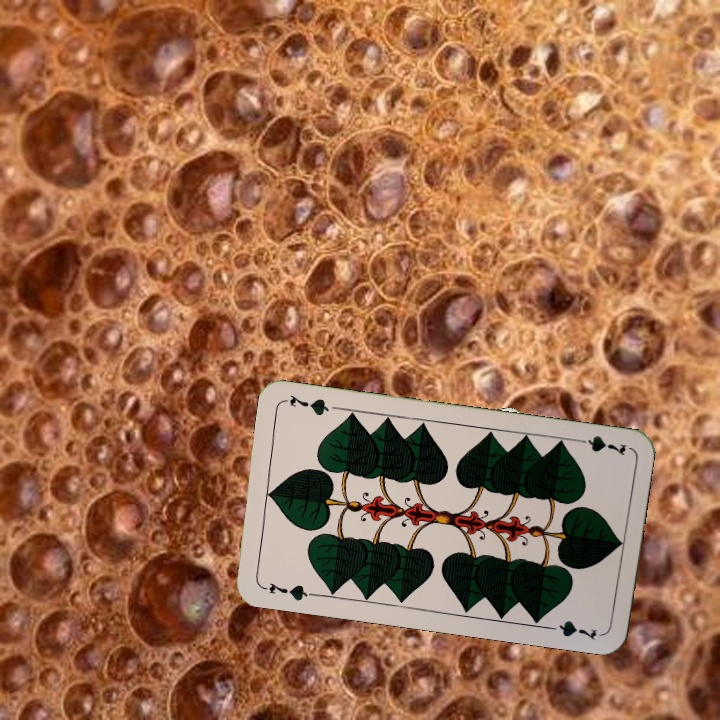G7: (570, 431, 629, 459), (257, 578, 316, 604)
